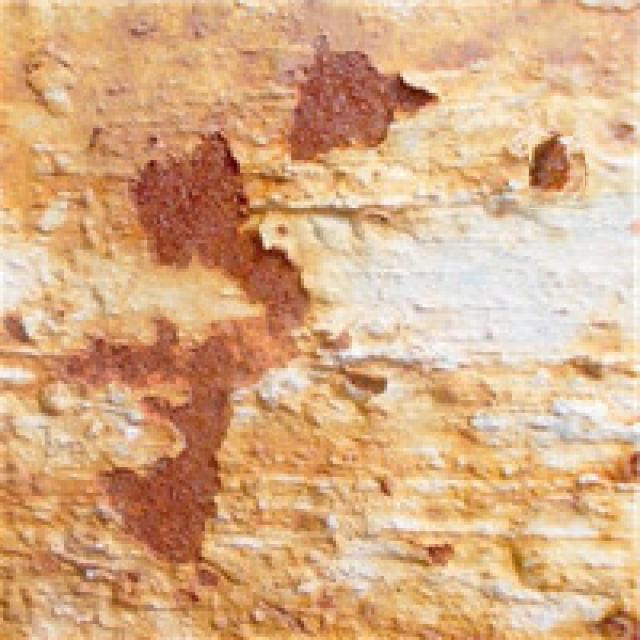Corrosion: (0, 0, 410, 640), (0, 0, 567, 248), (201, 355, 640, 640), (48, 132, 309, 570), (336, 359, 640, 640), (290, 37, 438, 160), (531, 134, 586, 190), (430, 547, 455, 566)
